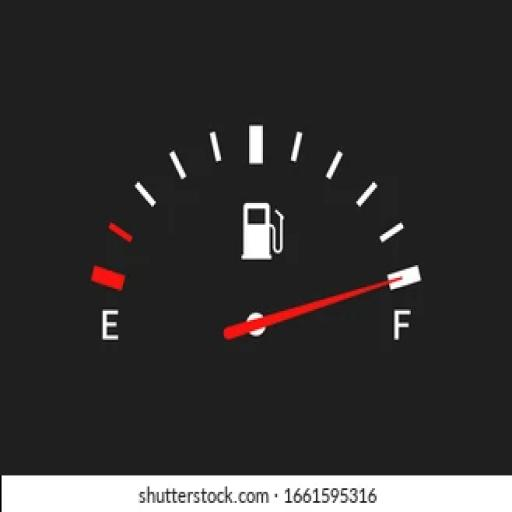empty: (100, 305, 120, 345)
fuel_icon: (237, 196, 284, 260)
full: (391, 305, 413, 344)
guage_area: (91, 118, 421, 366)
needle_center: (238, 306, 272, 349)
needle_tip: (368, 263, 406, 295)
